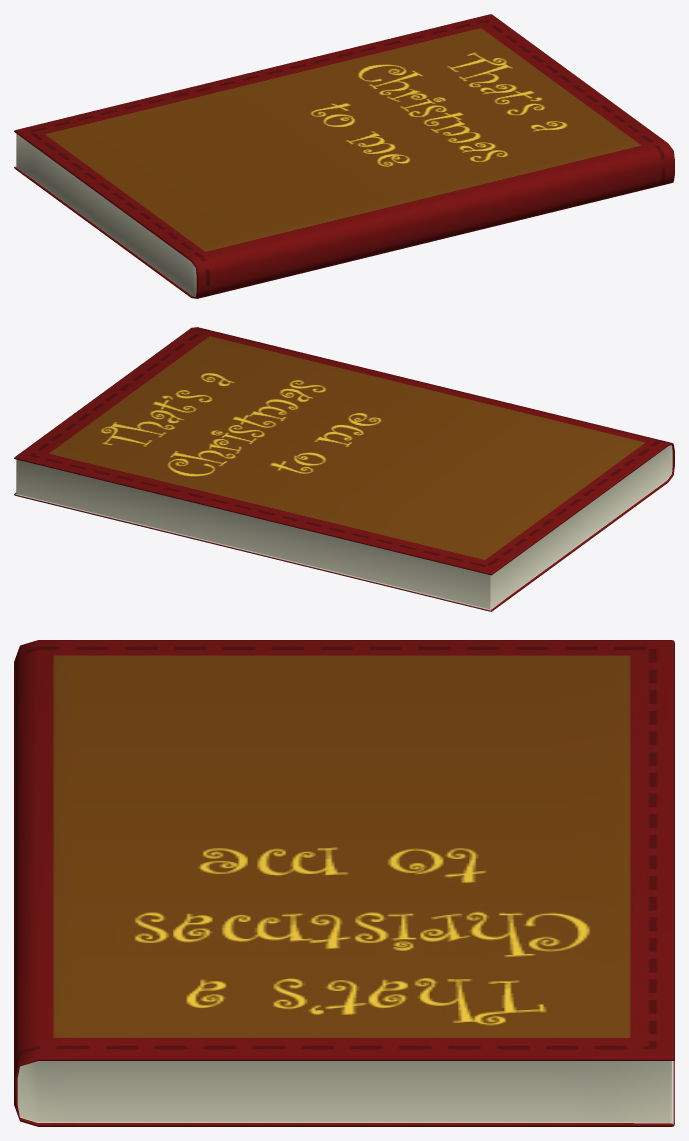
Rendered from RedBook_Naughty_1.FBX.
3 renders of one model, top to bottom at view 1: azimuth 30°, elevation 25°; view 2: azimuth 150°, elevation 25°; view 3: azimuth 270°, elevation 25°, orthographic. The views are drawn at different scales.
Visible parts, largest first — view 1: RedBook; view 2: RedBook; view 3: RedBook.
Boxes of the visible parts, x1,y1,x2,y2 form: RedBook: (14, 14, 674, 298); RedBook: (14, 327, 674, 611); RedBook: (14, 640, 674, 1126).
Bounding box in the file's own units: 9 × 0.7 × 6.
